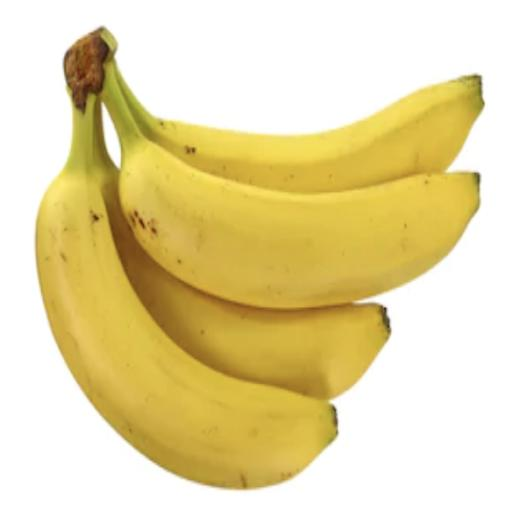banana: (36, 66, 336, 488), (100, 60, 479, 309), (96, 117, 390, 399), (117, 69, 483, 193)
